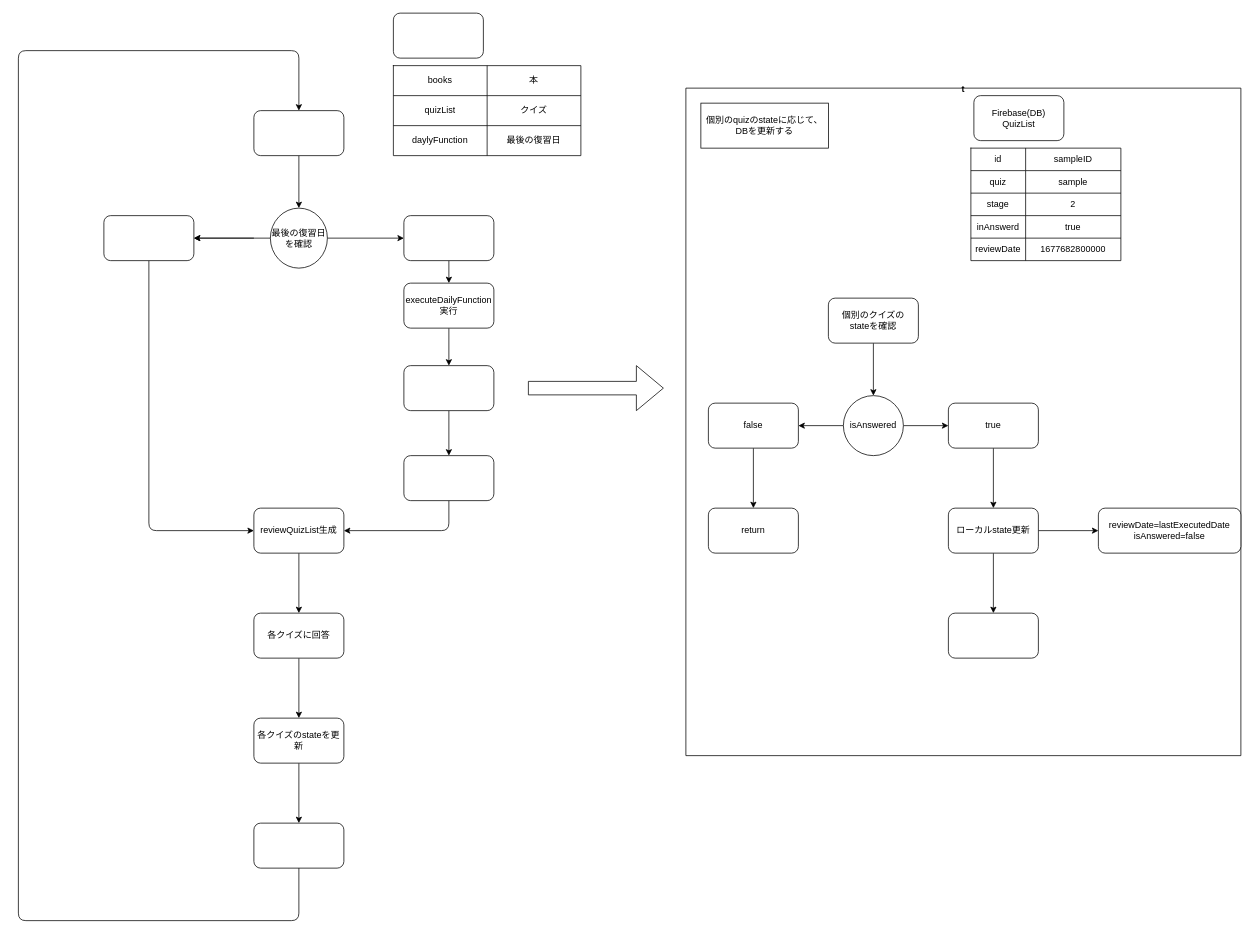
Image size: 1254x940. Some labels were removed from this diagram. The shapes that lost their labels are listed below. From the top down, each one's centre as x and y in pixels, then its label:
[438,35]: Firebase(DB)
[298,133]: クイズアプリを開く
[148,238]: 今日と同じ
[448,238]: 今日より前
[448,388]: [DB] quizList 更新
[448,478]: [DB] lastExecutedDate 更新
[993,635]: reduxにdispatch
[298,845]: アプリケーション閉じる
